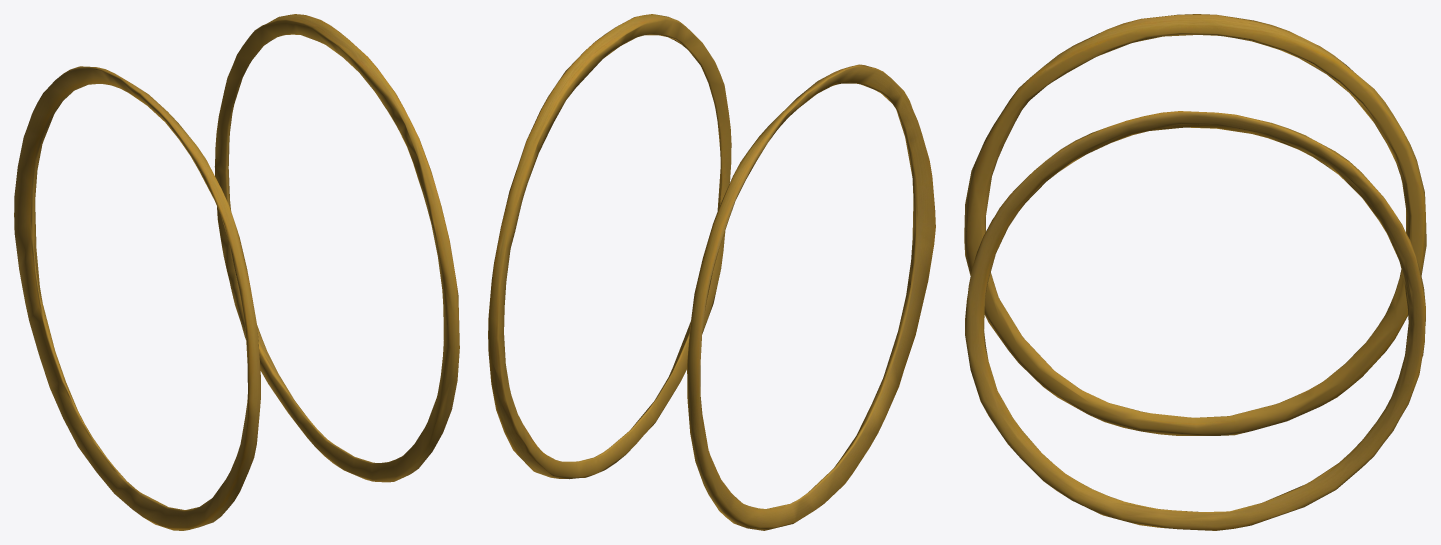
File: yellow_room_deadend.glb
3 views of the same model, side by side, from view 1: azimuth 30°, elevation 25°; view 2: azimuth 150°, elevation 25°; view 3: azimuth 270°, elevation 25° (orthographic). The views are drawn at different scales.
Size of the model in its own units: 1.31 by 2.5 by 2.5.
1 material, 1 textured.
